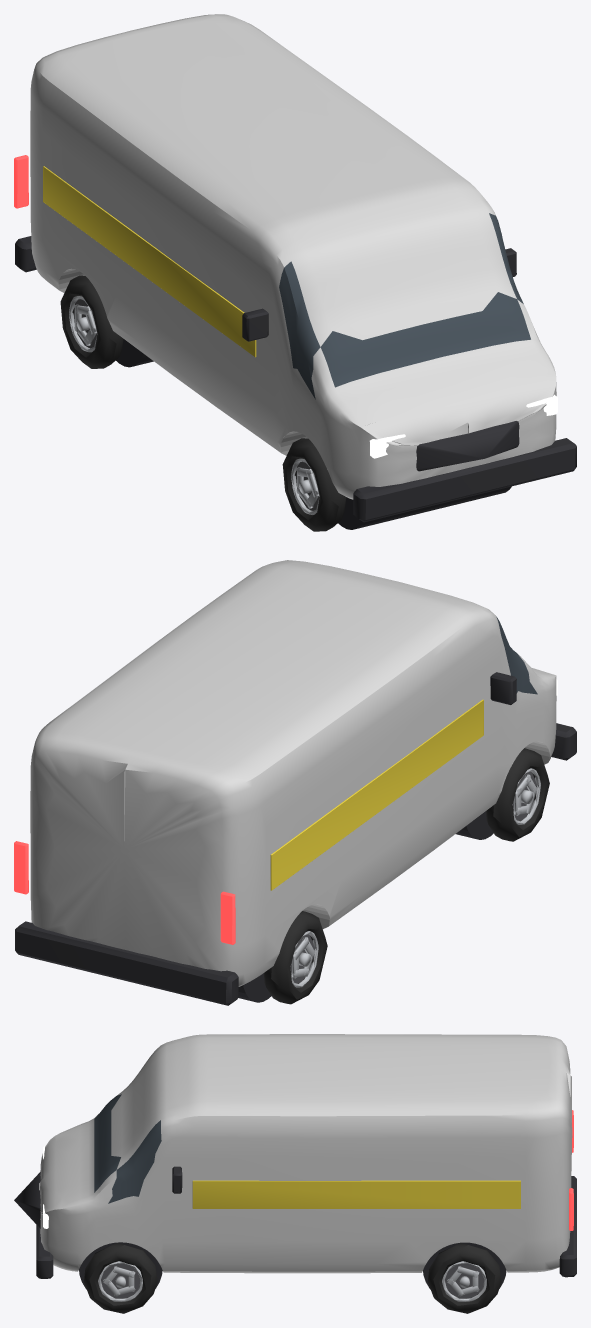
The model's file is van_lod.glb.
3 views of the same model, one above another, from view 1: azimuth 30°, elevation 25°; view 2: azimuth 150°, elevation 25°; view 3: azimuth 270°, elevation 25° (orthographic). The views are drawn at different scales.
Visible parts, largest first — view 1: body, stripe, bumper_f, grille, Torus, Torus.002, Cylinder, mirror, tail; view 2: body, stripe, bumper_r, Torus.002, Torus, tail, mirror, tail.001, bumper_f, Cylinder.001, Cylinder; view 3: body, stripe.001, Torus.004, Torus.006, bumper_r, grille, bumper_f, Cylinder.006, Cylinder.008, Cylinder, Cylinder.001, Torus.005 (+1 smaller).
Boxes of the visible parts, <box> form: body: <box>30,14,556,499</box>; stripe: <box>43,166,256,357</box>; bumper_f: <box>353,438,576,522</box>; grille: <box>416,421,519,471</box>; Torus: <box>282,438,346,531</box>; Torus.002: <box>60,275,123,368</box>; Cylinder: <box>338,486,511,529</box>; mirror: <box>242,308,268,341</box>; tail: <box>14,155,28,208</box>; body: <box>30,560,556,986</box>; stripe: <box>270,699,483,890</box>; bumper_r: <box>15,921,238,1005</box>; Torus.002: <box>264,911,327,1004</box>; Torus: <box>486,748,549,841</box>; tail: <box>220,891,235,944</box>; mirror: <box>490,672,516,704</box>; tail.001: <box>14,841,28,894</box>; bumper_f: <box>551,723,576,760</box>; Cylinder.001: <box>238,973,271,1002</box>; Cylinder: <box>456,811,493,839</box>; body: <box>39,1034,572,1273</box>; stripe.001: <box>192,1180,520,1208</box>; Torus.004: <box>84,1243,157,1313</box>; Torus.006: <box>427,1243,501,1313</box>; bumper_r: <box>559,1176,576,1277</box>; grille: <box>14,1172,40,1228</box>; bumper_f: <box>36,1225,53,1278</box>; Cylinder.006: <box>101,1263,140,1298</box>; Cylinder.008: <box>445,1263,484,1298</box>; Cylinder: <box>79,1242,162,1289</box>; Cylinder.001: <box>423,1242,506,1289</box>; Torus.005: <box>98,1261,142,1301</box>.
Size of the model in its own units: 2.35 by 2.25 by 5.48.
